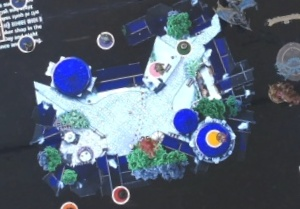blue: (15, 33, 37, 55)
green: (172, 37, 192, 57)
orange: (56, 198, 82, 209)
pink: (146, 57, 166, 78)
red: (106, 182, 132, 208)
violet: (92, 27, 116, 53)
yellow: (201, 124, 227, 151)
